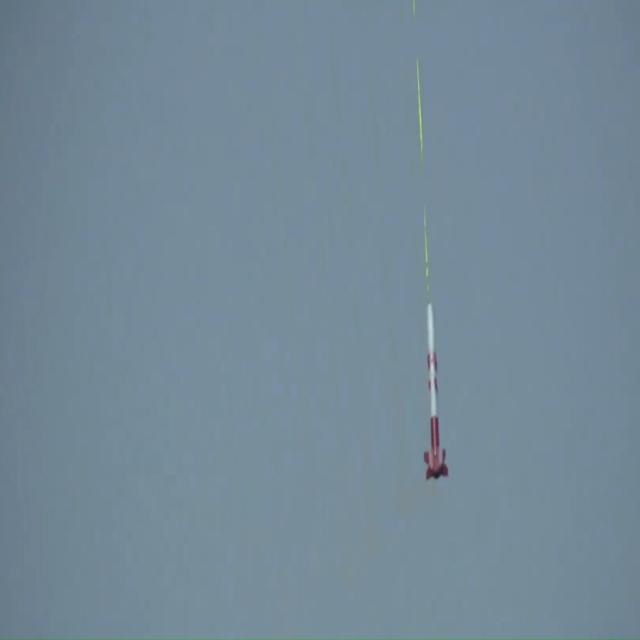Rocket: (422, 302, 450, 479)
